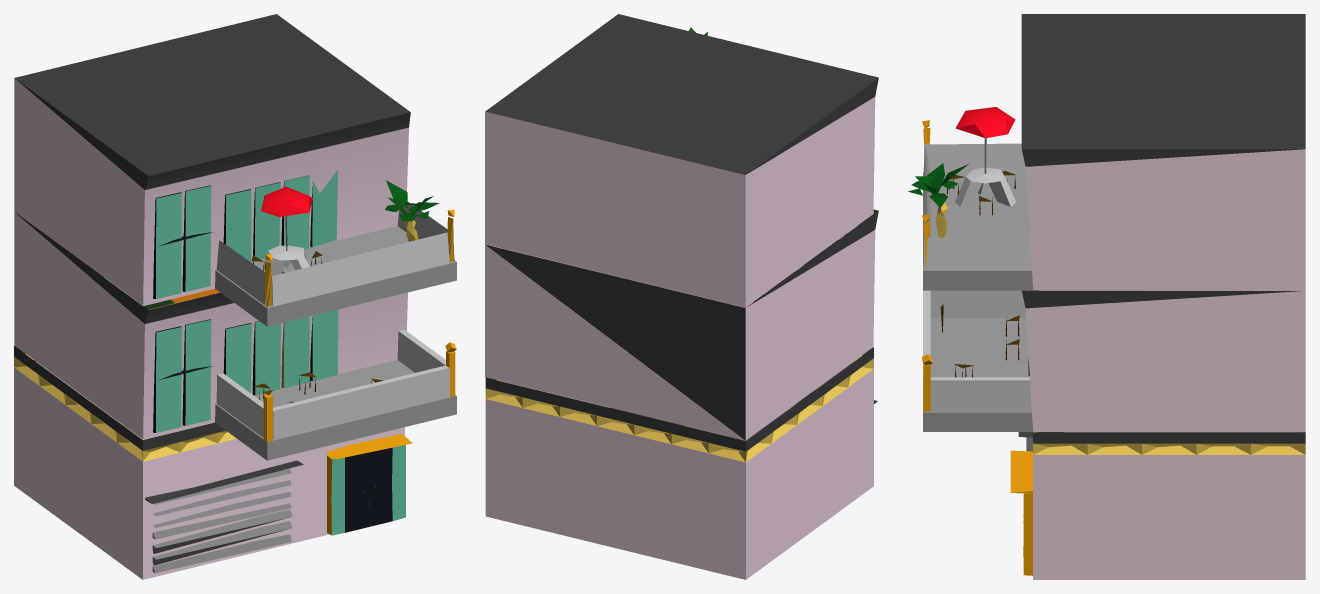
File: PredioCentroBrancoLOD2.fbx
3 renders of one model, left to right at view 1: azimuth 30°, elevation 25°; view 2: azimuth 150°, elevation 25°; view 3: azimuth 270°, elevation 25°, orthographic. The views are drawn at different scales.
Parts seen in each view (by area): view 1: PredioFundacaoLOD2, Andar2LOD2, Andar1LOD2, GaragemLOD2; view 2: PredioFundacaoLOD2; view 3: PredioFundacaoLOD2, Andar2LOD2, Andar1LOD2.
Part boxes in pixels (left/top/right/bottom): PredioFundacaoLOD2: left=14, top=14, right=412, bottom=579; Andar2LOD2: left=215, top=180, right=456, bottom=326; Andar1LOD2: left=215, top=329, right=456, bottom=460; GaragemLOD2: left=145, top=460, right=303, bottom=573; PredioFundacaoLOD2: left=485, top=14, right=878, bottom=579; PredioFundacaoLOD2: left=940, top=14, right=1305, bottom=579; Andar2LOD2: left=908, top=107, right=1142, bottom=290; Andar1LOD2: left=922, top=290, right=1040, bottom=431.
Bounding box in the file's own units: 782 × 1161 × 970.
Materials: 1 (1 with a texture image).
